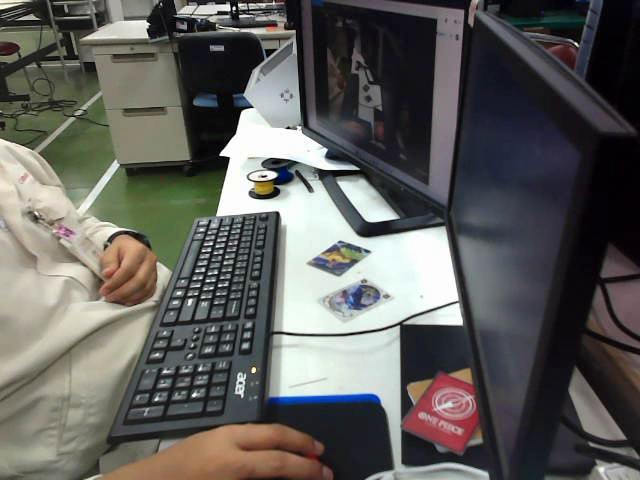can: (317, 275, 392, 320), (303, 239, 376, 276)
